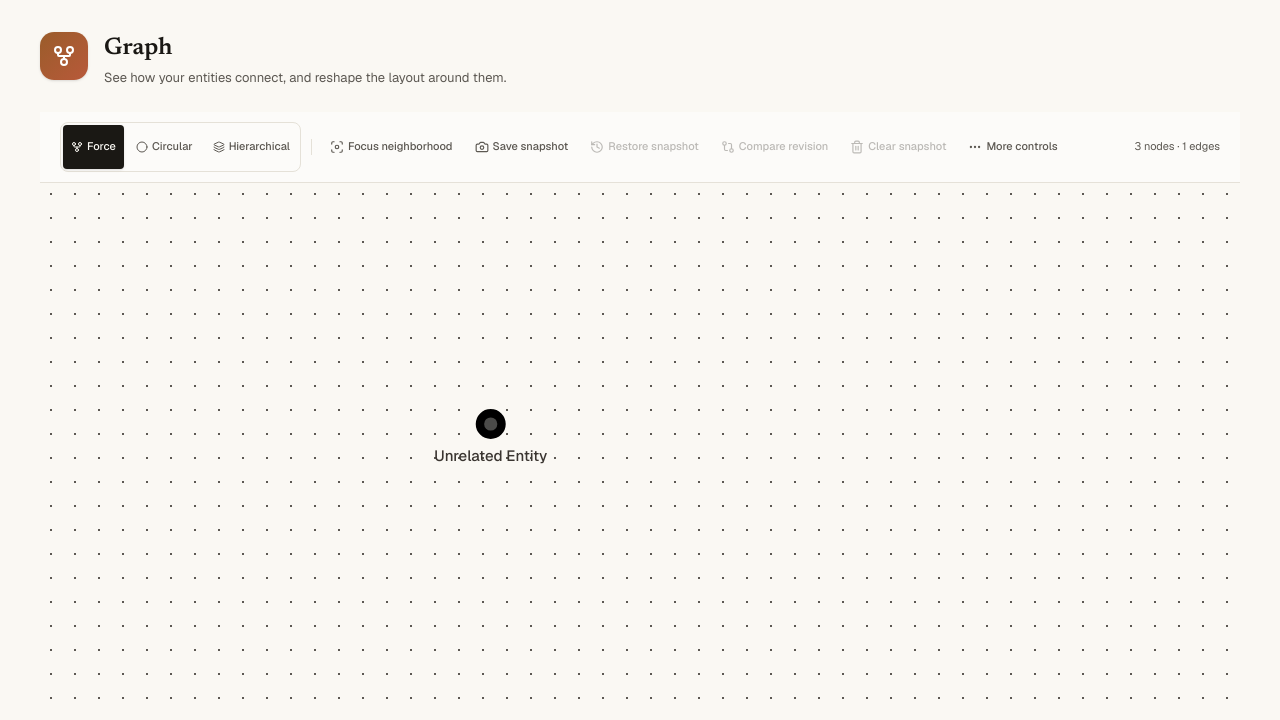
GraphView › toggles More controls disclosure and updates ARIA attributes
Expected: the field labelled "Export PNG" is not shown
Click the button labelled "More controls": click(1013, 146) top-left (960, 124), bottom-right (1066, 168)
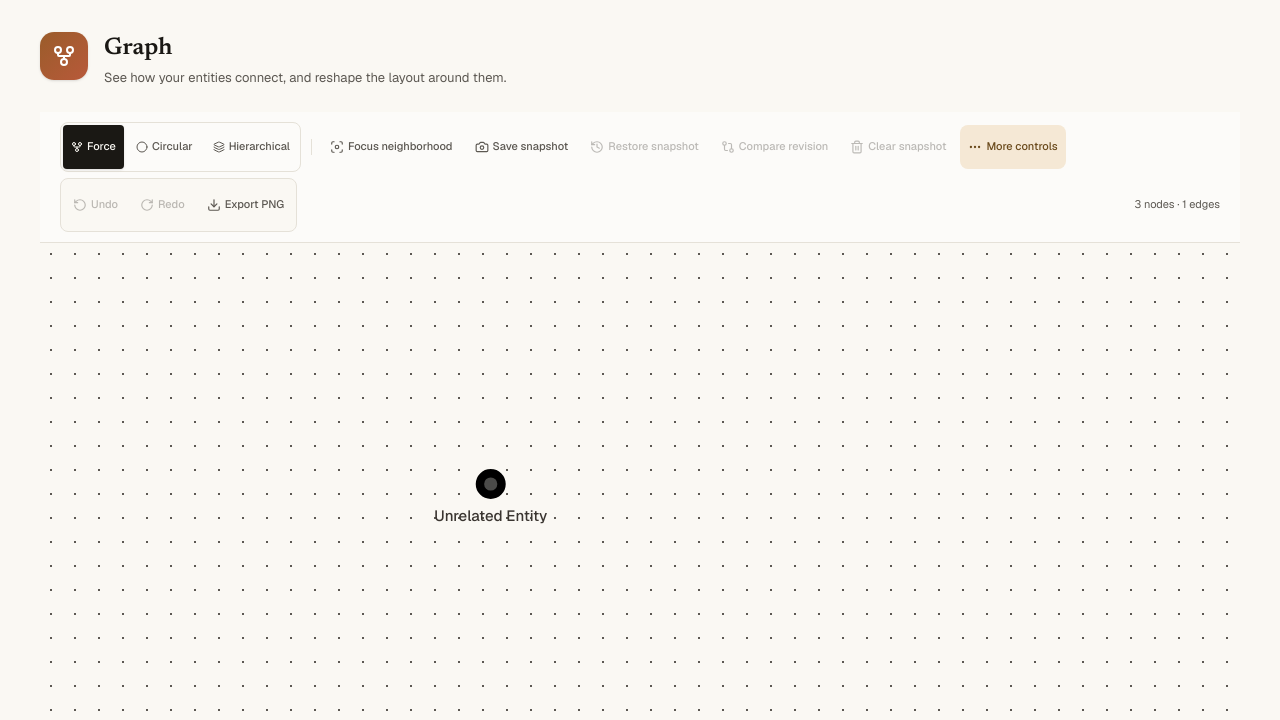
Expected: the button labelled "More controls" is expanded
Expected: the button labelled "Export PNG" is shown, top-left (199, 182), bottom-right (292, 226)
Click the button labelled "More controls": click(1013, 146) top-left (960, 124), bottom-right (1066, 168)
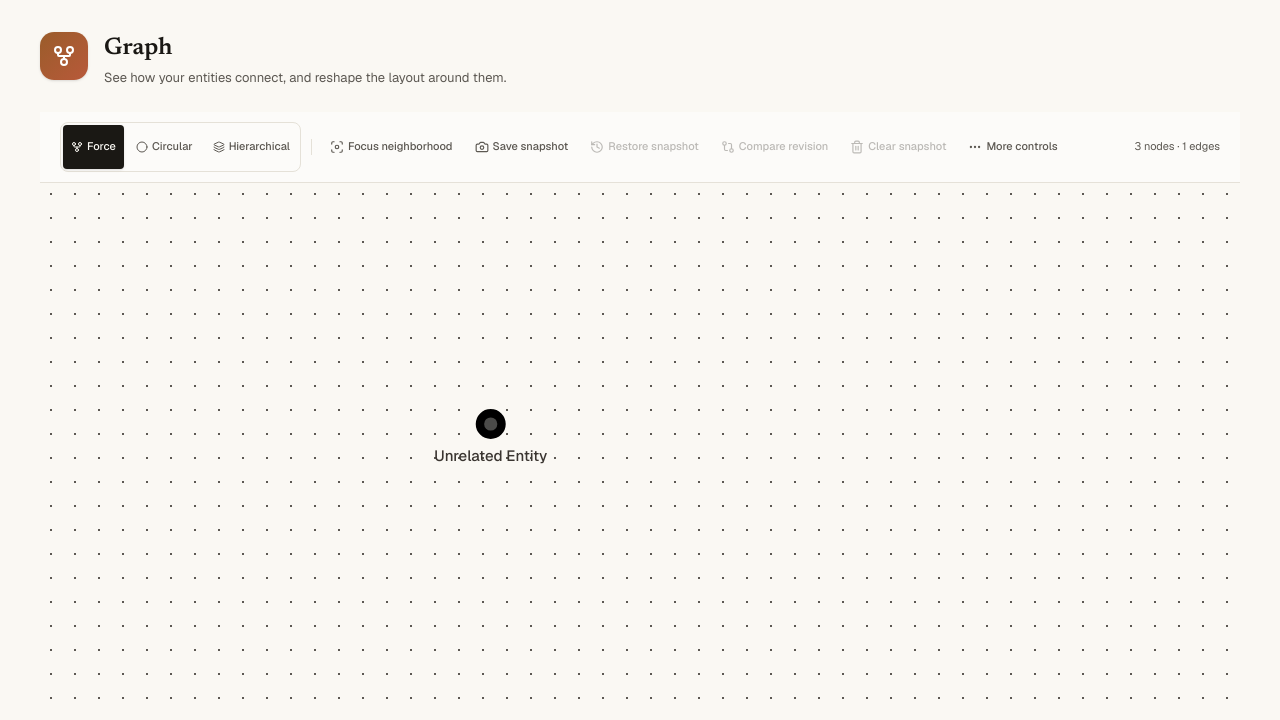
Expected: the button labelled "More controls" is collapsed, top-left (960, 124), bottom-right (1066, 168)
Expected: the button labelled "Export PNG" is gone
